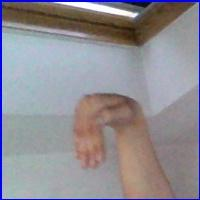del: (69, 89, 151, 175)
